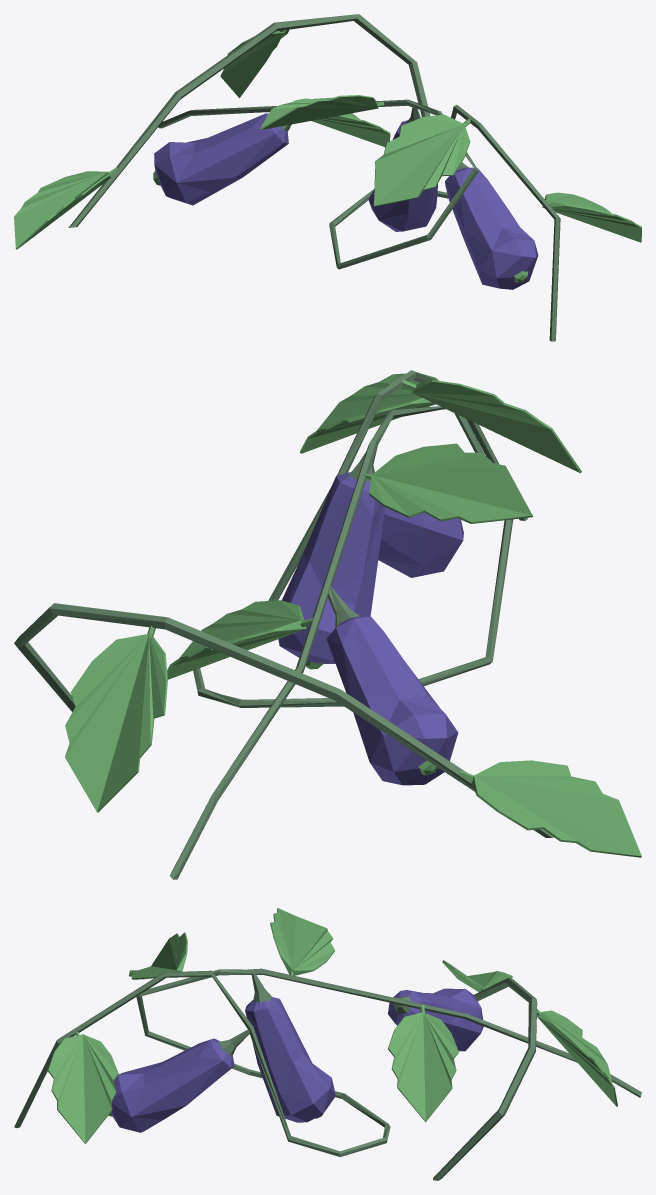
The model's file is eggplant.glb.
3 views of the same model, one above another, from view 1: azimuth 30°, elevation 25°; view 2: azimuth 150°, elevation 25°; view 3: azimuth 270°, elevation 25° (orthographic). The views are drawn at different scales.
Parts seen in each view (by area): view 1: eggplant; view 2: eggplant; view 3: eggplant.
Part boxes in pixels (x1,y1,x2,y2): eggplant: (14, 14, 641, 341); eggplant: (14, 370, 641, 879); eggplant: (14, 908, 641, 1180).
Size of the model in its own units: 1.06 by 0.4095 by 1.37.
Materials: 1 (1 with a texture image).
